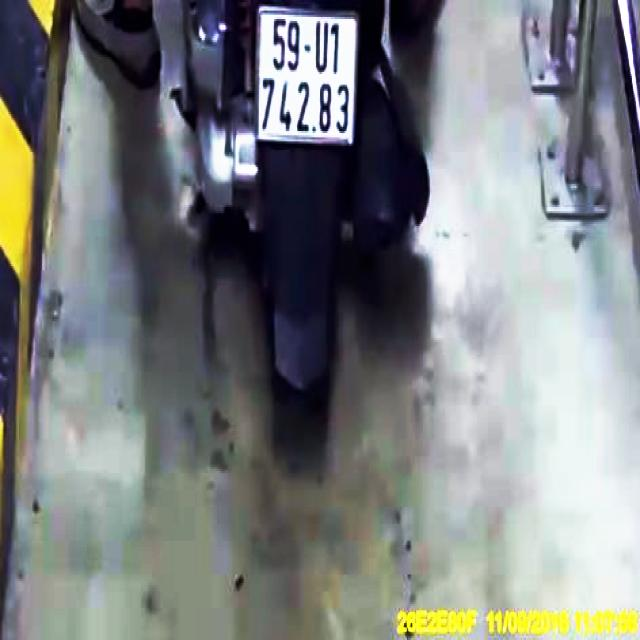license_plate: (255, 12, 361, 147)
